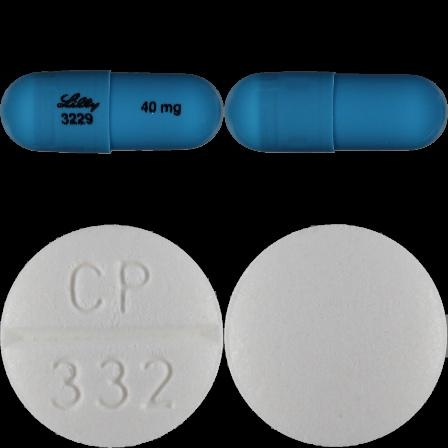69189-3229: (0, 0, 224, 224)
